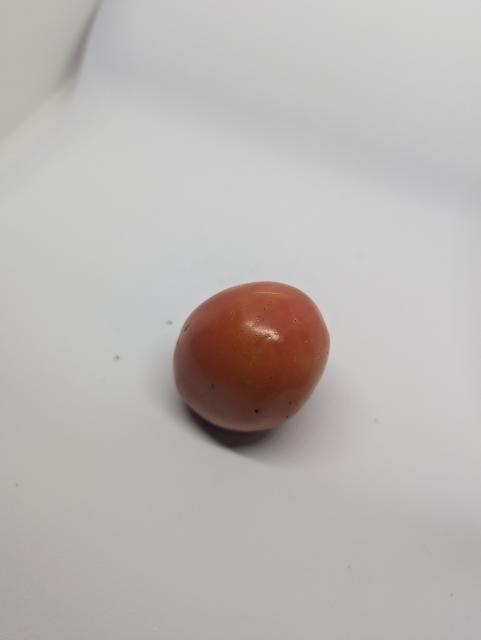red: (165, 273, 338, 435)
